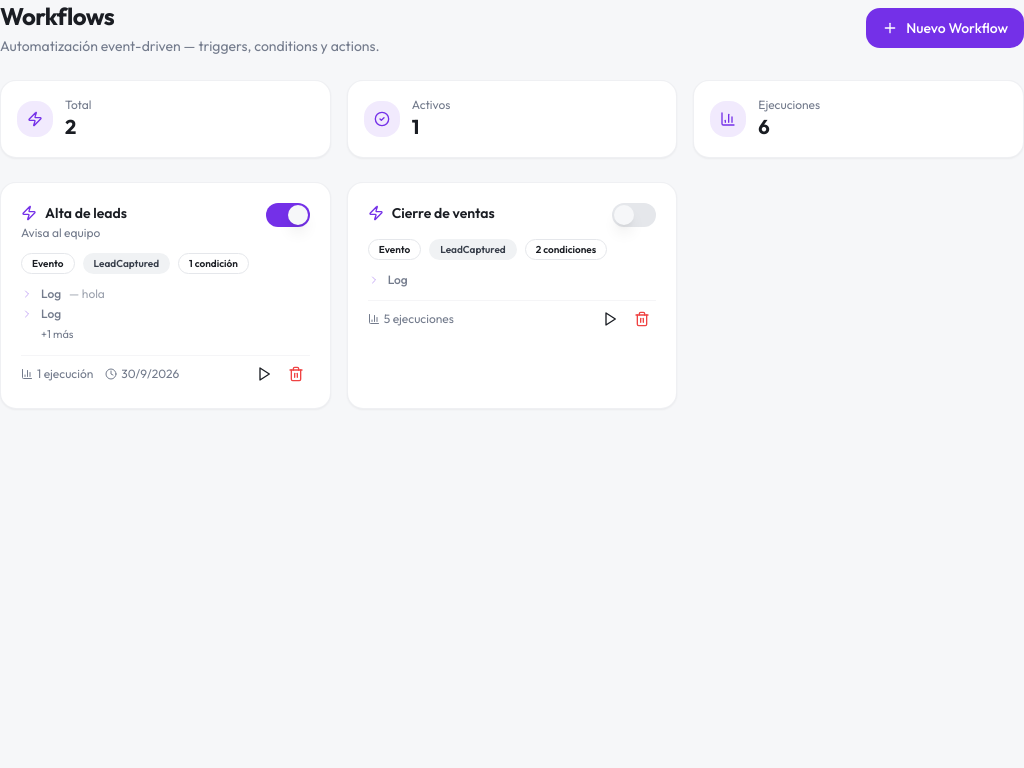
Scenario: Workflows, in Spanish › shows the run history with translated statuses and the raw backend error
Expected: the text "Alta de leads" is shown, [45, 203, 127, 223]
Click the button named "Ver ejecuciones" next to "30/9/2026": (264, 374) [250, 360, 278, 388]
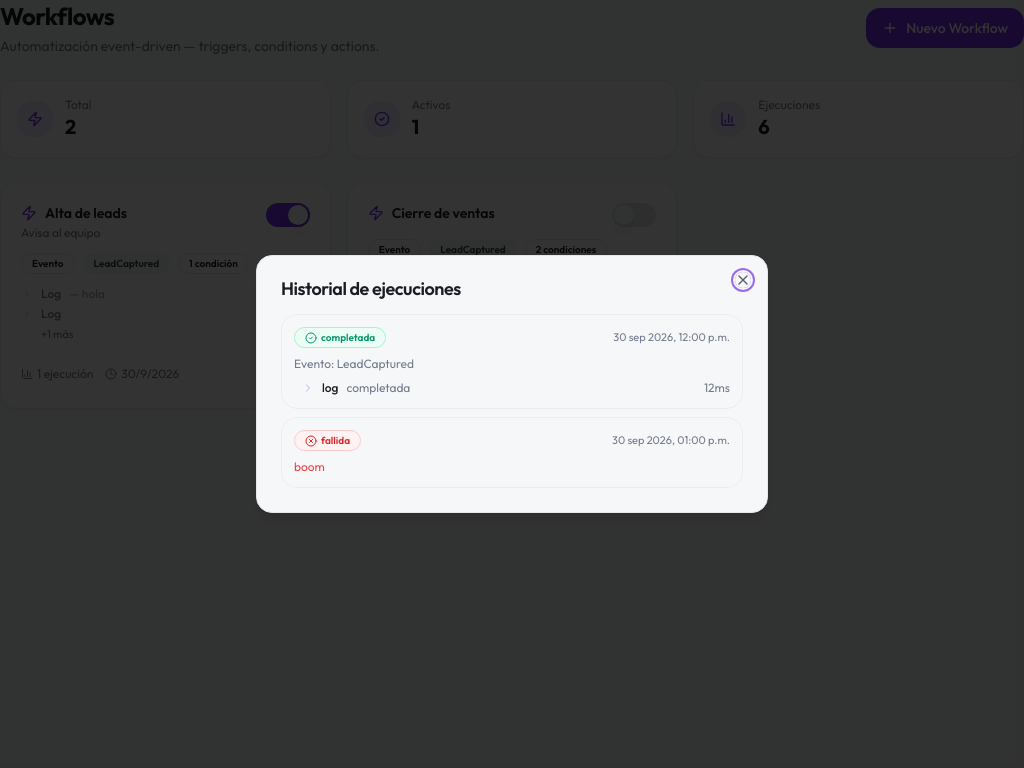
Result: the heading "Historial de ejecuciones" is shown at [281, 277, 461, 300]
Result: the text "fallida" is shown at [294, 430, 361, 451]
Result: the text "completada" is shown at [294, 327, 386, 348]
